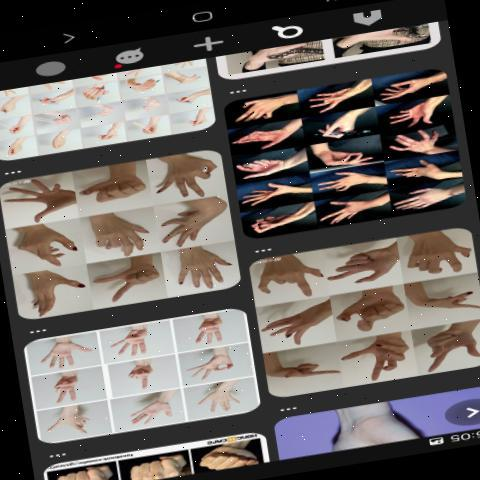Hands: (245, 300, 331, 344), (158, 197, 227, 248), (340, 333, 405, 381), (399, 239, 477, 273), (168, 250, 234, 289), (116, 390, 180, 430), (324, 250, 396, 284), (369, 77, 444, 108), (372, 98, 448, 128), (76, 222, 144, 254), (230, 122, 301, 151), (229, 174, 300, 203), (34, 337, 96, 370), (300, 82, 366, 111), (390, 184, 464, 209), (388, 158, 459, 183), (303, 169, 379, 192), (312, 198, 384, 221), (102, 339, 162, 358)
